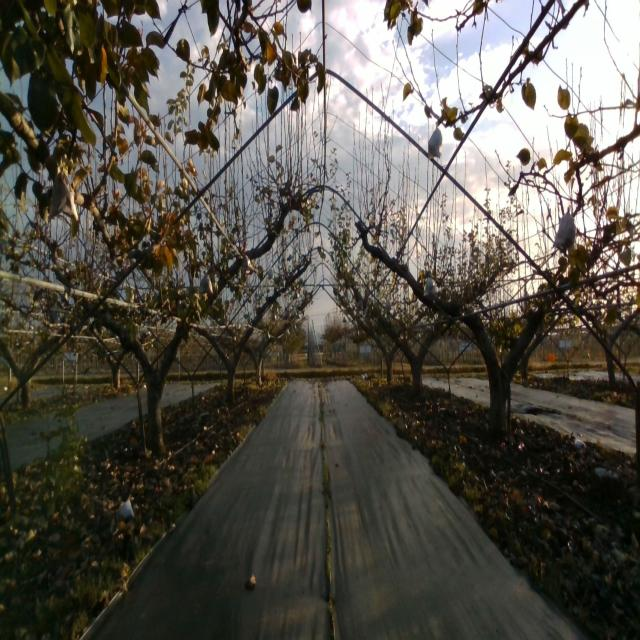pearbags: (48, 166, 79, 222), (554, 205, 576, 253), (428, 122, 442, 160), (199, 273, 214, 296), (241, 255, 253, 278), (424, 276, 436, 296)
